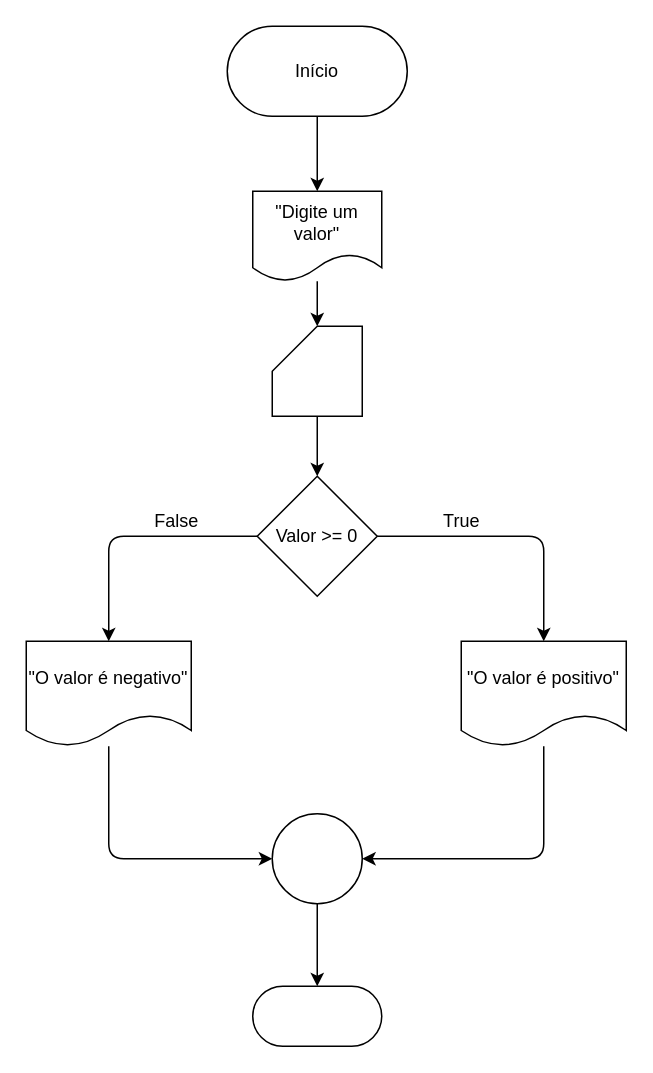
Image size: 653x1073. Some labels were removed from this diagram. Here are the shapes that lost their labels. From the top down, the centre of each, then its label:
At point (316, 370): "Valor".
At point (316, 1015): "Fim".
